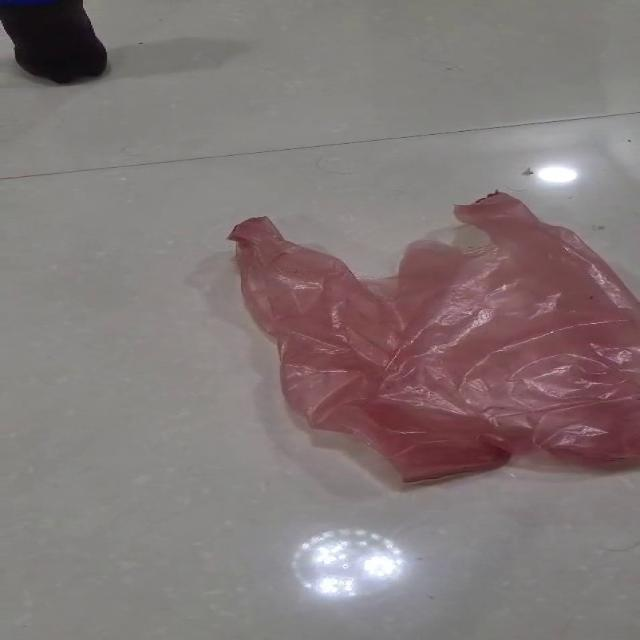plastic: (225, 189, 637, 484)
